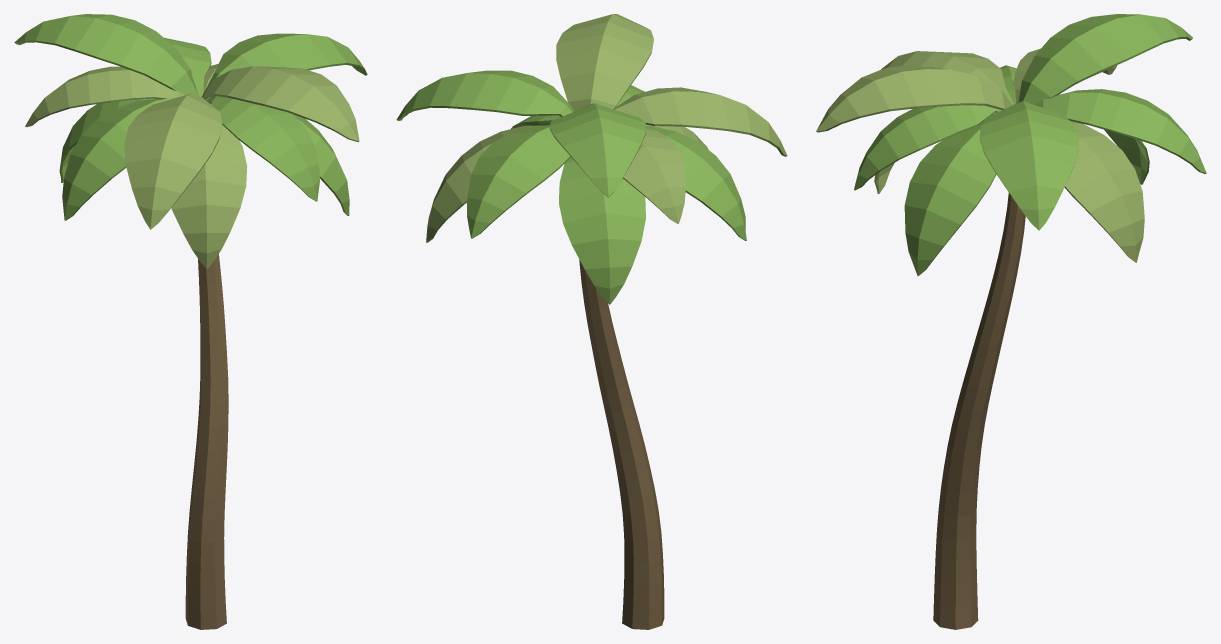
File: Palm_Tree.glb
3 views of the same model, side by side, from view 1: azimuth 30°, elevation 25°; view 2: azimuth 150°, elevation 25°; view 3: azimuth 270°, elevation 25° (orthographic). The views are drawn at different scales.
Parts seen in each view (by area): view 1: Palm-tree; view 2: Palm-tree; view 3: Palm-tree.
Part boxes in pixels (box(x1,y1,x2,y2)): Palm-tree: box(14, 14, 367, 629); Palm-tree: box(396, 14, 787, 629); Palm-tree: box(816, 14, 1206, 629).
Bounding box in the file's own units: 3.28 × 5.4 × 3.27.
